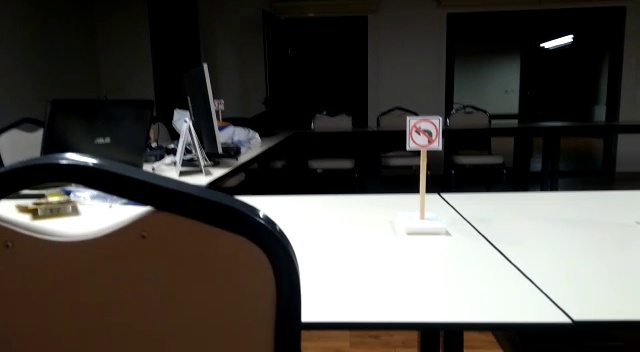sola_donulmez: (408, 114, 445, 147)
